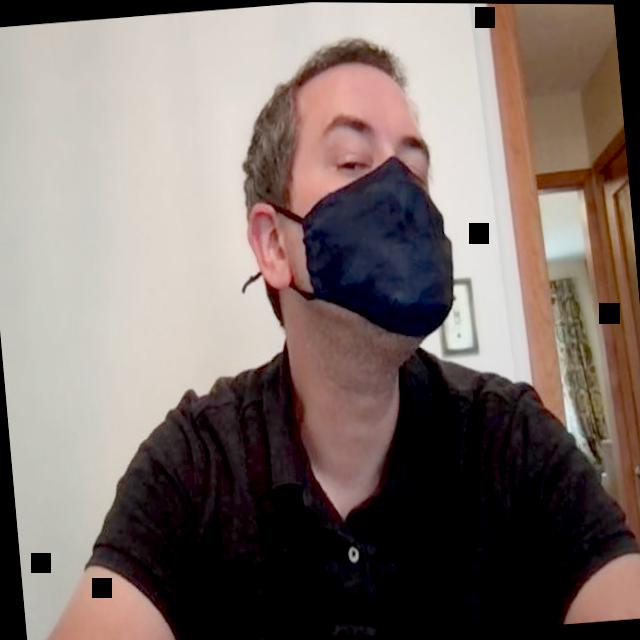Mask: (231, 29, 462, 351)
